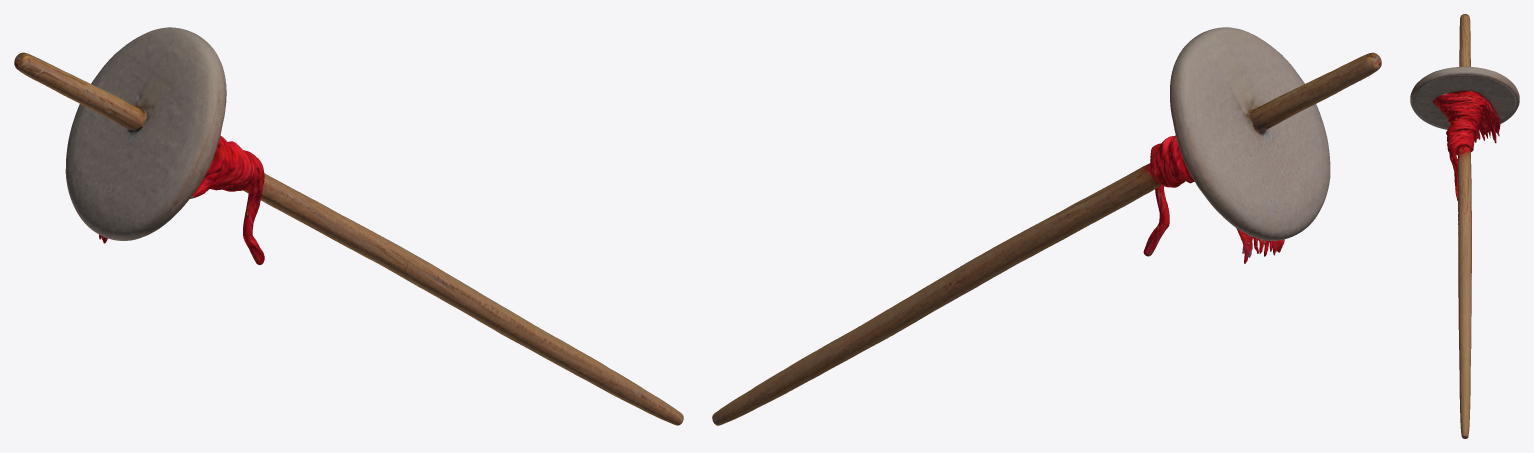
The model's file is tripo_convert_7dcae860-664c-458f-96f9-eb66091cfd2f.obj.
3 renders of one model, left to right at view 1: azimuth 30°, elevation 25°; view 2: azimuth 150°, elevation 25°; view 3: azimuth 270°, elevation 25°, orthographic. The views are drawn at different scales.
Visible parts, largest first — view 1: tripo_node_7dcae860-664c-458f-96f9-eb66091cfd2f; view 2: tripo_node_7dcae860-664c-458f-96f9-eb66091cfd2f; view 3: tripo_node_7dcae860-664c-458f-96f9-eb66091cfd2f.
Boxes of the visible parts, <box> form: tripo_node_7dcae860-664c-458f-96f9-eb66091cfd2f: <box>14,27,683,425</box>; tripo_node_7dcae860-664c-458f-96f9-eb66091cfd2f: <box>712,27,1381,425</box>; tripo_node_7dcae860-664c-458f-96f9-eb66091cfd2f: <box>1410,14,1519,438</box>.
Size of the model in its own units: 1 by 0.7607 by 0.2848.
1 material, 1 textured.
